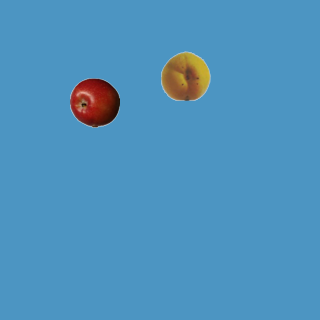Apple Braeburn: (69, 77, 119, 127)
Peach 2: (160, 50, 210, 100)
